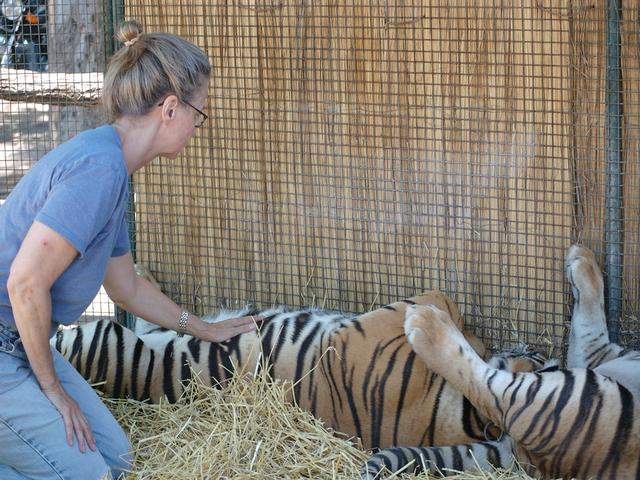tiger: (102, 231, 622, 450)
